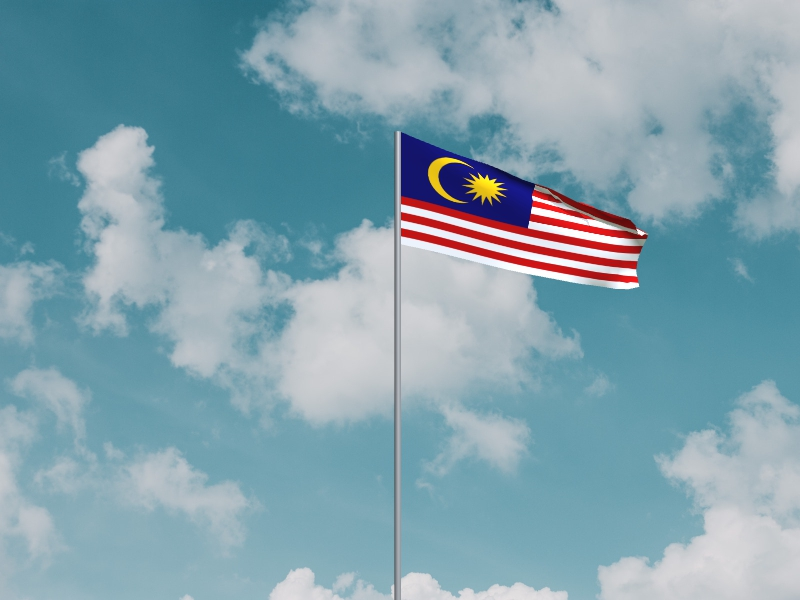my: (402, 132, 649, 290)
